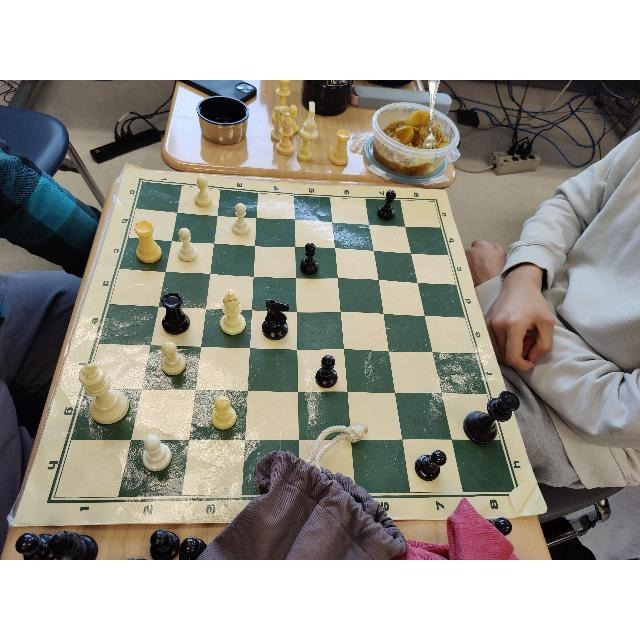black-king: (463, 390, 520, 445)
black-knight: (262, 298, 290, 340)
black-pawn: (415, 449, 447, 482), (314, 355, 337, 389), (377, 189, 396, 220), (301, 243, 319, 275)
black-rook: (162, 292, 190, 335)
white-bishop: (220, 290, 246, 336)
white-king: (78, 362, 131, 426)
white-pawn: (142, 434, 171, 473), (211, 395, 237, 430), (161, 342, 187, 376), (177, 227, 198, 262), (232, 203, 252, 234), (195, 175, 213, 207)
white-rook: (134, 221, 162, 263)
